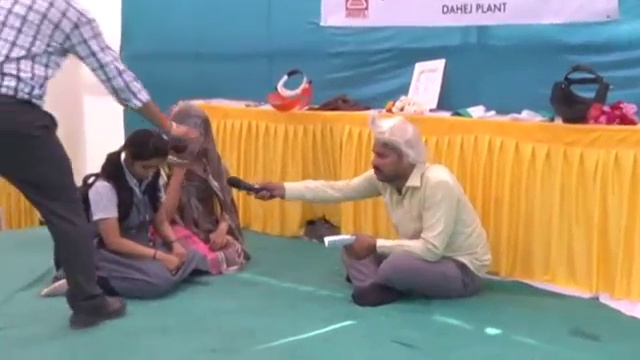helmet_off: (366, 118, 424, 183), (117, 125, 172, 188), (164, 102, 214, 165)
person: (0, 4, 162, 330), (255, 117, 493, 308), (40, 122, 207, 302), (151, 103, 248, 274)
